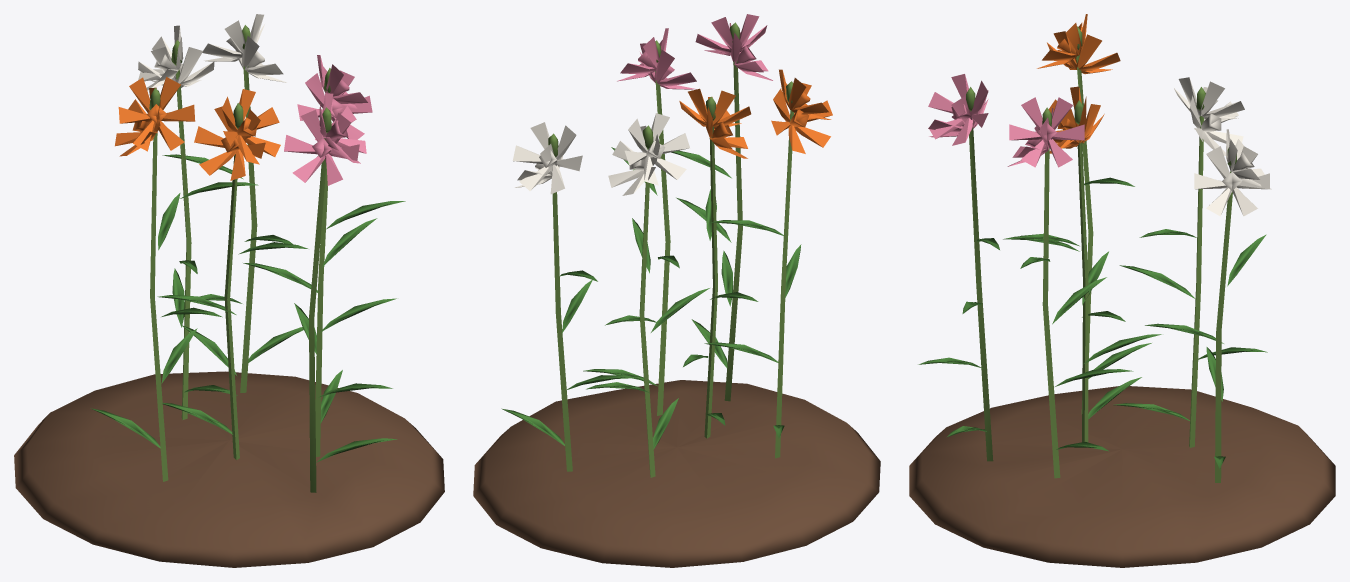
Rendered from lilies.glb.
The picture shows the model from 3 angles, left to right: view 1: azimuth 30°, elevation 25°; view 2: azimuth 150°, elevation 25°; view 3: azimuth 270°, elevation 25°; orthographic projection. The views are drawn at different scales.
Visible parts, largest first — view 1: lilies; view 2: lilies; view 3: lilies.
Part boxes in pixels (bbox=[...]): lilies: bbox=[14, 14, 444, 567]; lilies: bbox=[473, 14, 880, 567]; lilies: bbox=[909, 14, 1335, 567].
Size of the model in its own units: 0.84 by 0.939 by 0.869.
